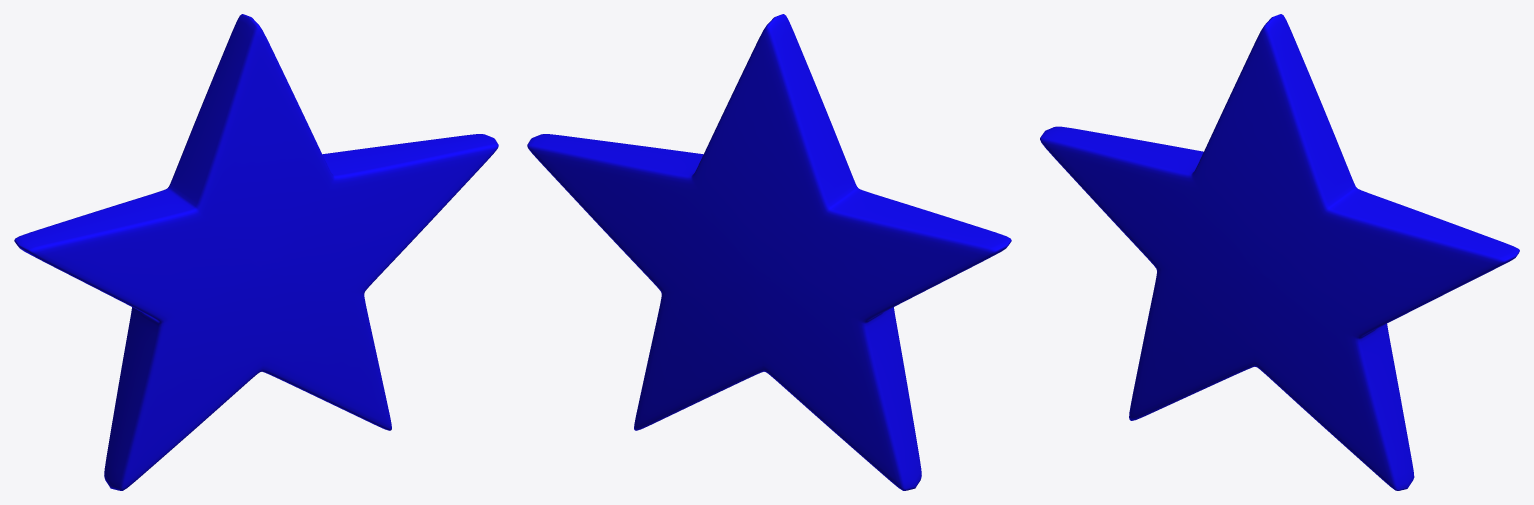
The model's file is estrellaazul.gltf.
3 views of the same model, side by side, from view 1: azimuth 30°, elevation 25°; view 2: azimuth 150°, elevation 25°; view 3: azimuth 330°, elevation 25° (orthographic).
Parts seen in each view (by area): view 1: Star; view 2: Star; view 3: Star.
Part boxes in pixels (box(x1,y1,x2,y2)): Star: box(14, 14, 498, 490); Star: box(527, 14, 1011, 490); Star: box(1040, 14, 1519, 490).
Size of the model in its own units: 9.37 by 8.34 by 1.21.
